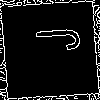J: (25, 25, 81, 54)
